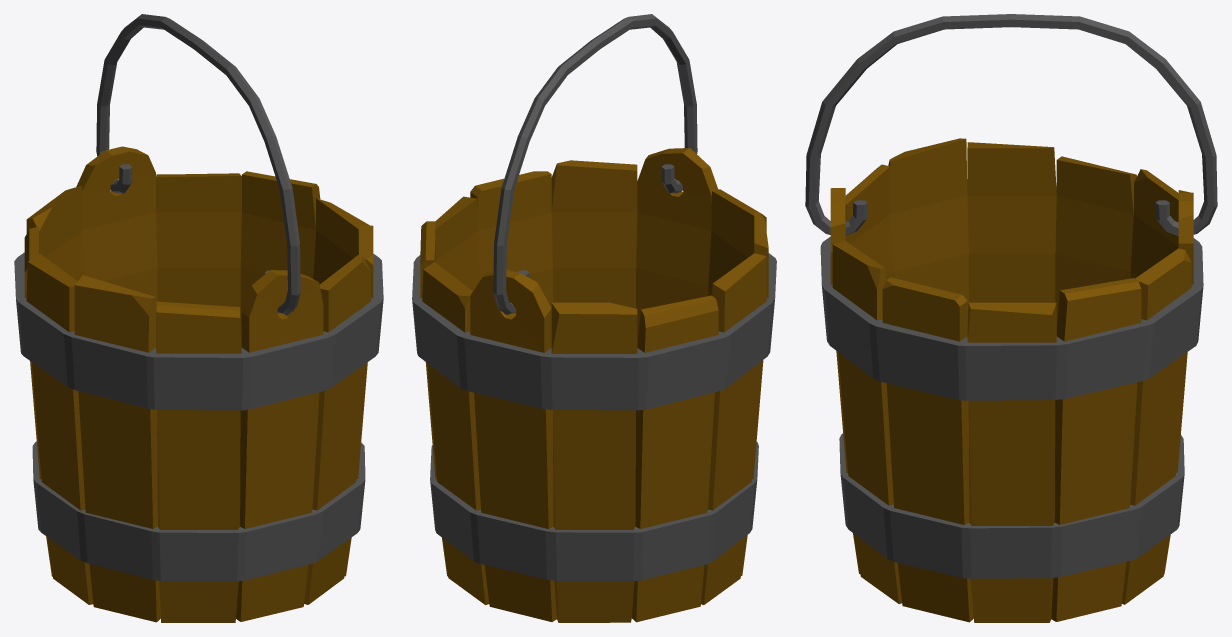
The model's file is bucket_with_handle.glb.
The picture shows the model from 3 angles, left to right: view 1: azimuth 30°, elevation 25°; view 2: azimuth 150°, elevation 25°; view 3: azimuth 270°, elevation 25°; orthographic projection. The views are drawn at different scales.
Visible parts, largest first — view 1: Bucket, Handle; view 2: Bucket, Handle; view 3: Bucket, Handle.
Boxes of the visible parts, box(x1,y1,x2,y2) form: Bucket: box(14, 146, 383, 622); Handle: box(96, 14, 300, 315); Bucket: box(412, 148, 776, 622); Handle: box(493, 14, 697, 314); Bucket: box(820, 138, 1203, 622); Handle: box(805, 14, 1217, 235).
Bounding box in the file's own units: 0.5192 × 0.8199 × 0.5632.
